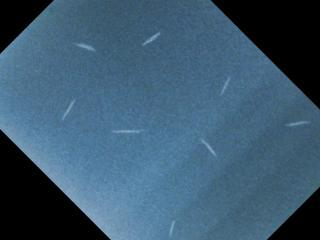scratch: (71, 38, 99, 54), (109, 126, 144, 137), (199, 137, 217, 157), (61, 97, 76, 120), (140, 30, 161, 46), (221, 76, 232, 95), (284, 120, 309, 127), (167, 221, 176, 238)
